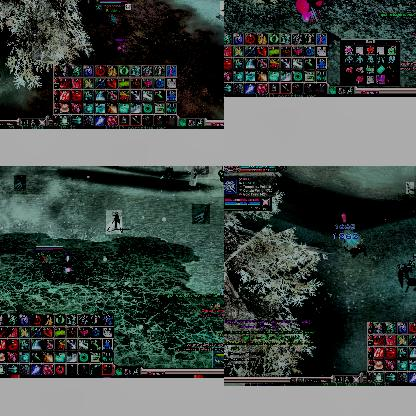caliana: (106, 210, 122, 234), (192, 204, 210, 224), (342, 233, 360, 252), (398, 264, 412, 286), (14, 175, 26, 189), (406, 182, 414, 194), (219, 1, 224, 20)
